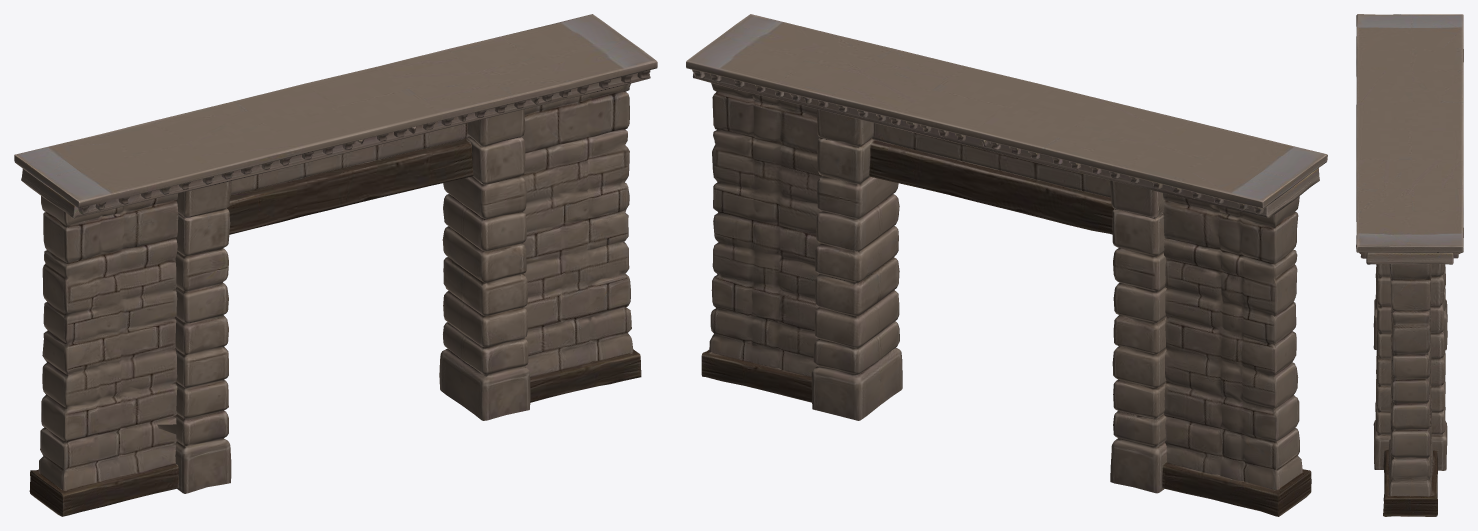
File: sd_porta.glb
3 renders of one model, left to right at view 1: azimuth 30°, elevation 25°; view 2: azimuth 150°, elevation 25°; view 3: azimuth 270°, elevation 25°, orthographic. The views are drawn at different scales.
Visible parts, largest first — view 1: Mesh_0; view 2: Mesh_0; view 3: Mesh_0.
Boxes of the visible parts, <box> form: Mesh_0: <box>14,14,657,516</box>; Mesh_0: <box>686,14,1327,516</box>; Mesh_0: <box>1356,14,1463,516</box>.
Bounding box in the file's own units: 1 × 0.5452 × 0.1964.
Materials: 1 (1 with a texture image).
